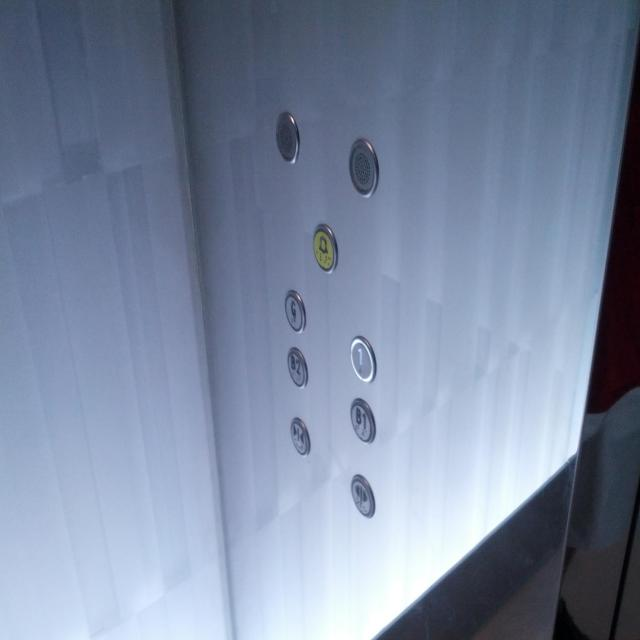1: (348, 332, 376, 385)
B1: (349, 396, 376, 444)
B2: (285, 343, 309, 389)
G: (283, 290, 307, 335)
alarm: (310, 223, 339, 276)
close: (289, 416, 311, 459)
open: (349, 471, 376, 519)
speaker: (270, 106, 305, 173), (346, 136, 380, 202)
